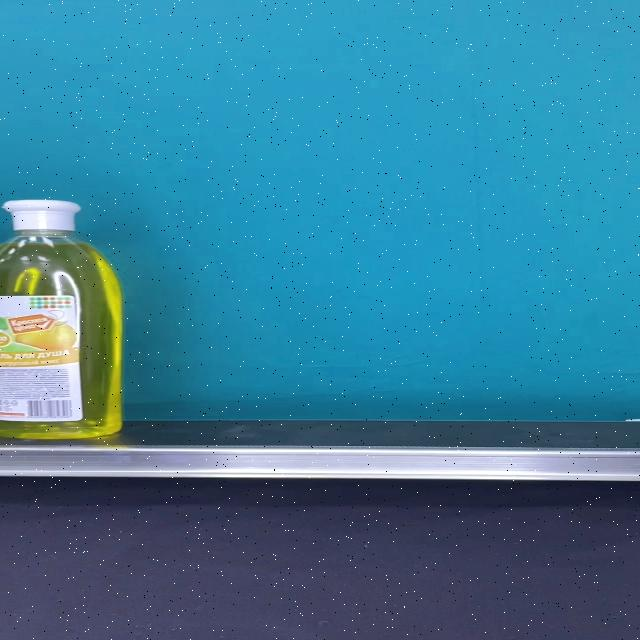Bottle: (0, 199, 123, 440)
Cap: (2, 199, 81, 231)
